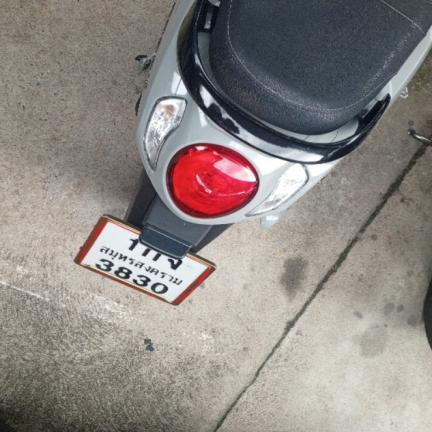0: (148, 280, 172, 298)
1: (124, 236, 141, 253)
3: (92, 256, 117, 273), (129, 272, 154, 289)
8: (111, 265, 135, 281)
A01: (139, 246, 164, 264)
A08: (162, 257, 187, 272)
SKM: (94, 243, 188, 289)
